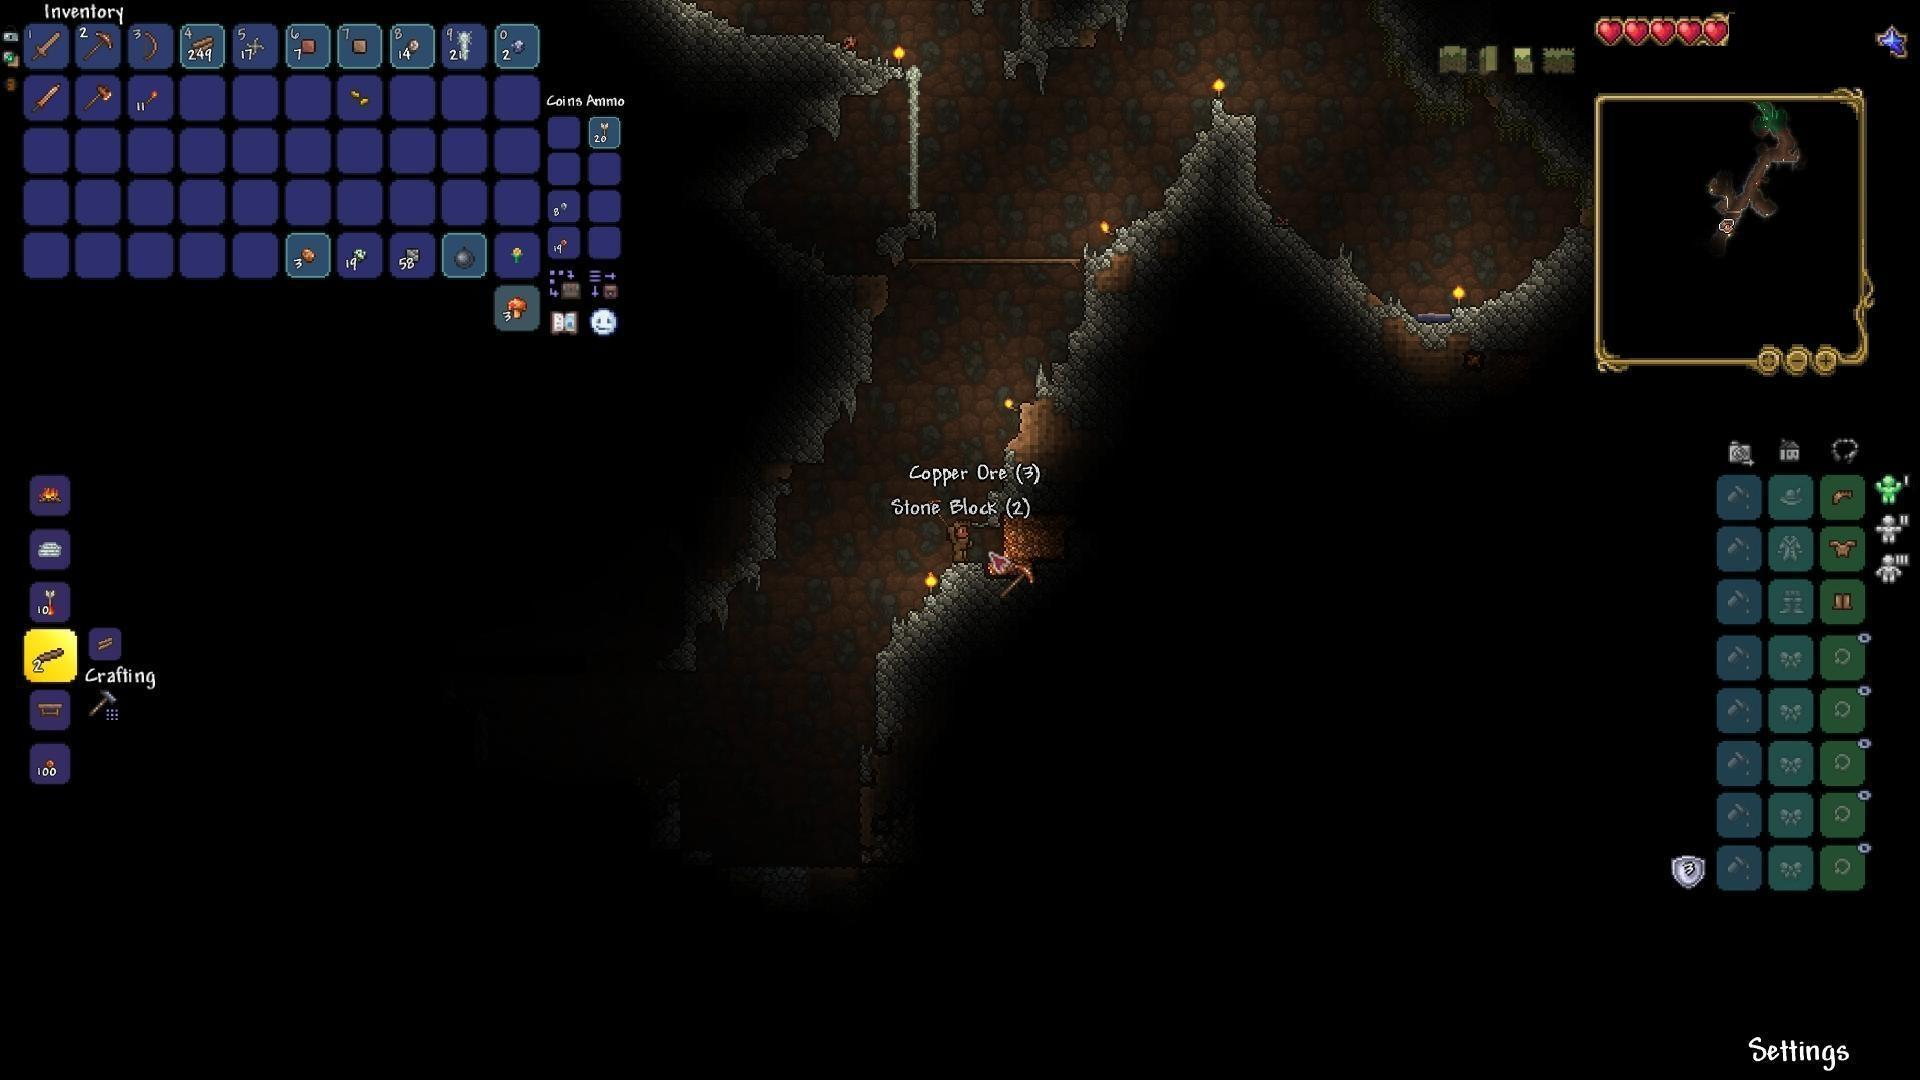heart: (1702, 17, 1733, 51), (1593, 16, 1626, 46), (1676, 15, 1704, 50), (1650, 16, 1676, 49), (1625, 15, 1651, 44)
stone: (698, 25, 890, 195), (1423, 225, 1584, 347), (866, 564, 1001, 688), (1156, 100, 1271, 227), (993, 0, 1145, 87), (688, 483, 791, 611), (808, 278, 880, 459), (1044, 265, 1118, 411), (1298, 240, 1404, 322)
